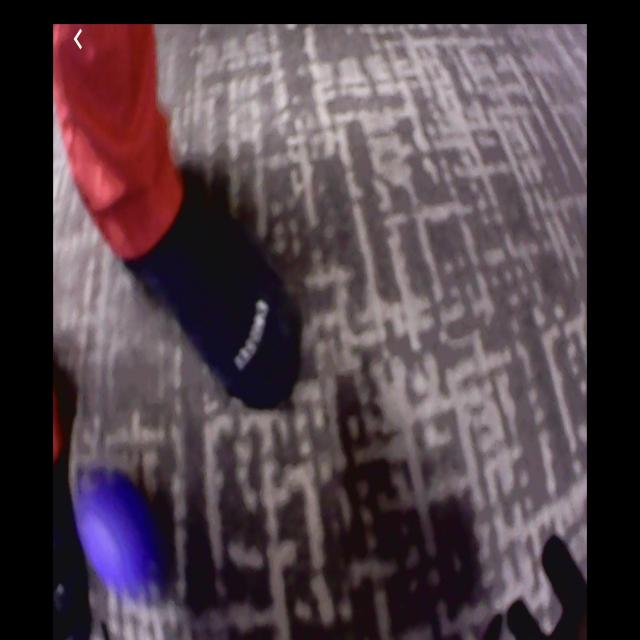ball: (82, 486, 154, 590)
